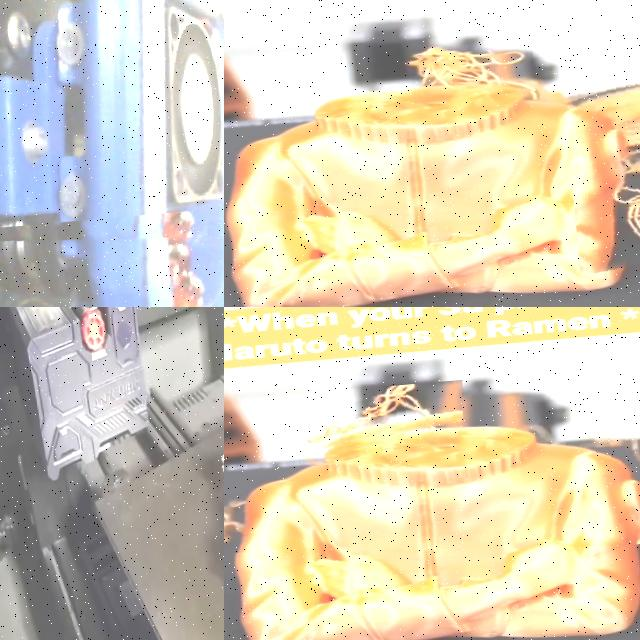spaghetti: (562, 60, 640, 277), (295, 379, 469, 453), (406, 15, 536, 100), (583, 391, 640, 547), (224, 497, 269, 561)
